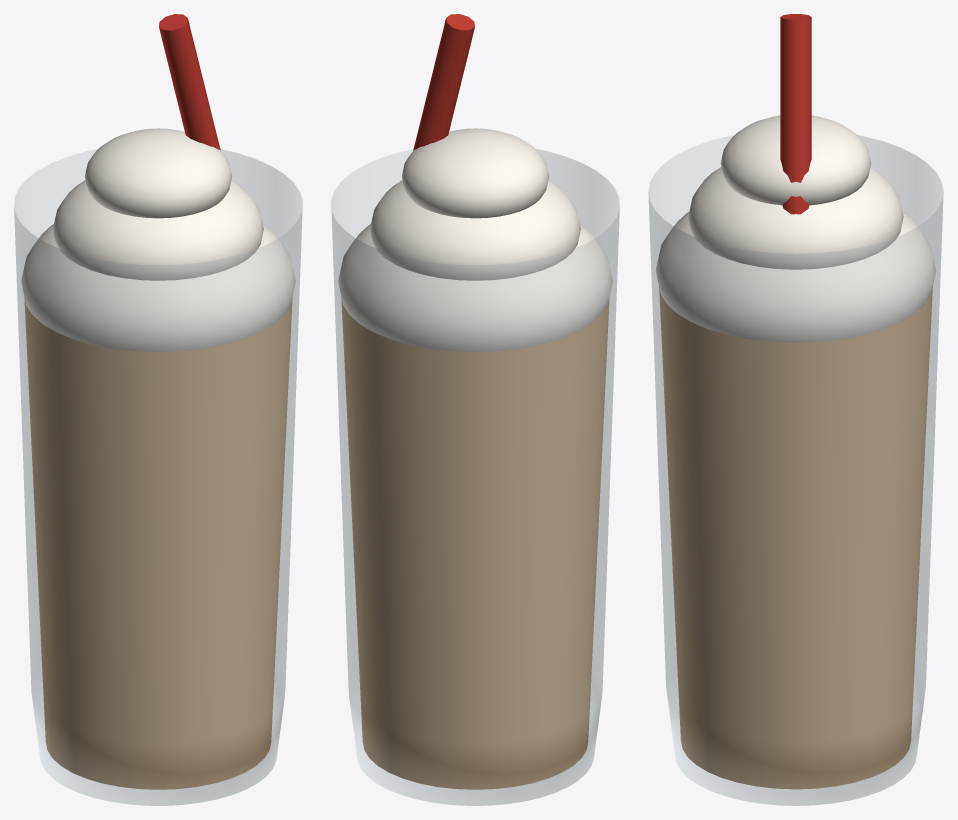
The model's file is milkshake-card.glb.
The picture shows the model from 3 angles, left to right: view 1: azimuth 30°, elevation 25°; view 2: azimuth 150°, elevation 25°; view 3: azimuth 270°, elevation 25°; orthographic projection. The views are drawn at different scales.
Size of the model in its own units: 0.076 by 0.2126 by 0.076.
